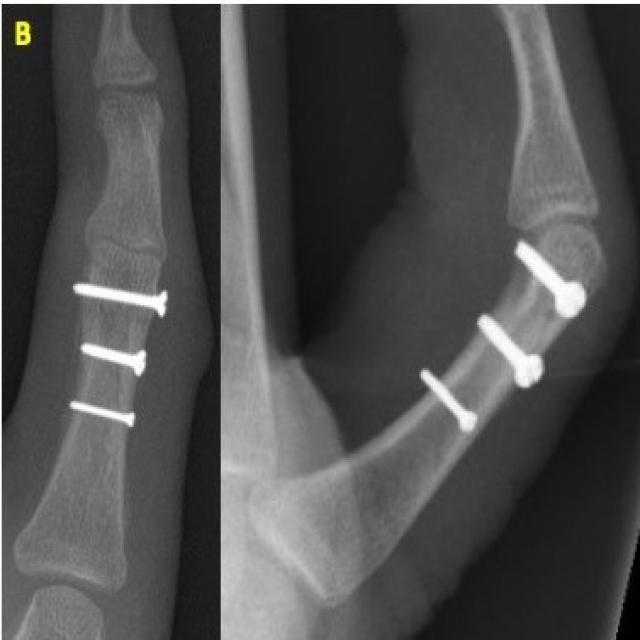fracture: (418, 237, 587, 447), (56, 261, 171, 478)
